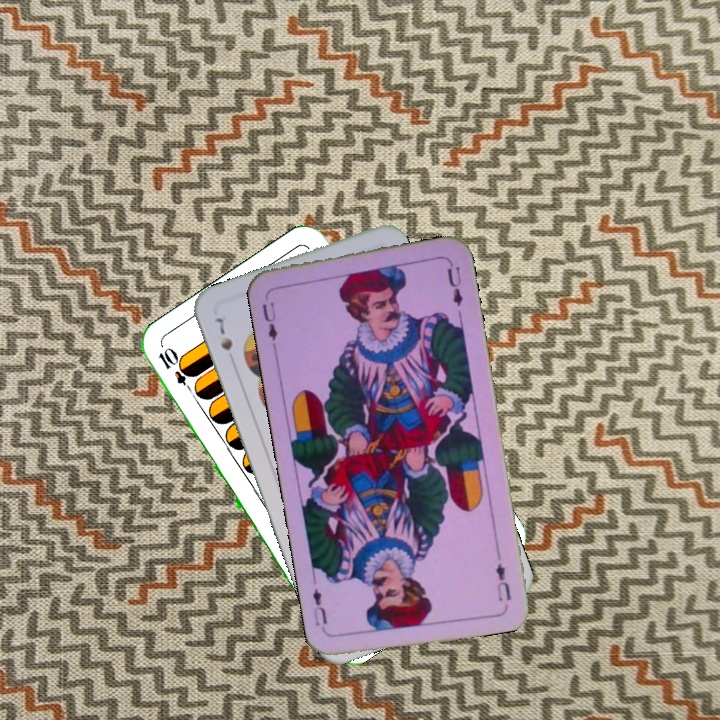E10: (154, 344, 198, 398)
EU: (258, 298, 281, 350), (492, 559, 514, 604)
S7: (212, 311, 236, 354)
